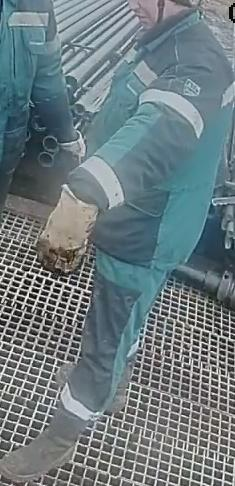gloves: (0, 0, 56, 168), (36, 183, 99, 273)
vest: (81, 7, 234, 269)
